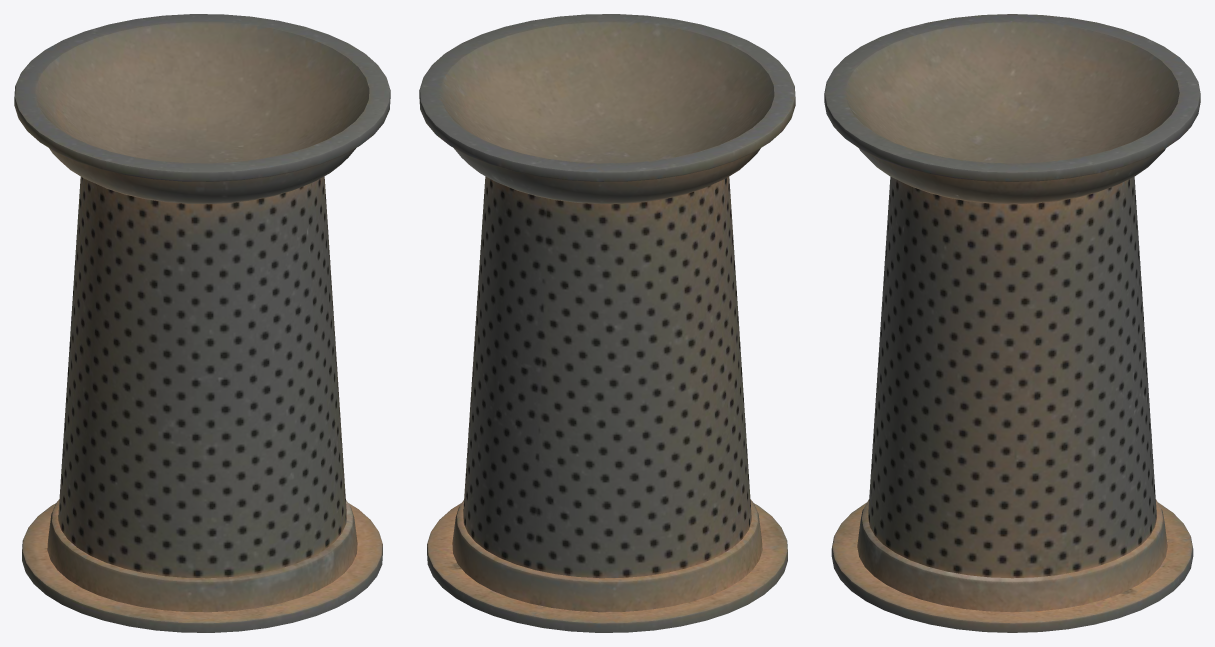
File: xi_dsp_stand_pot.gltf
3 views of the same model, side by side, from view 1: azimuth 30°, elevation 25°; view 2: azimuth 150°, elevation 25°; view 3: azimuth 270°, elevation 25° (orthographic).
Visible parts, largest first — view 1: xi_dsp_stand_pot; view 2: xi_dsp_stand_pot; view 3: xi_dsp_stand_pot.
Part boxes in pixels (box(x1,y1,x2,y2)): xi_dsp_stand_pot: box(14, 14, 390, 632); xi_dsp_stand_pot: box(419, 14, 795, 632); xi_dsp_stand_pot: box(824, 14, 1200, 632).
Bounding box in the file's own units: 0.5897 × 0.8013 × 0.5897.
1 material, 1 textured.
